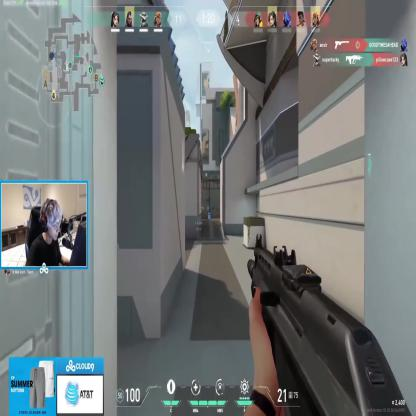enemy: (200, 205, 204, 218)
enemy_head: (202, 204, 204, 208)
